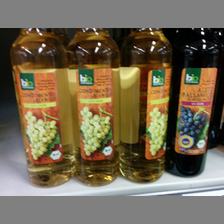vinegar: (11, 27, 76, 188), (67, 26, 121, 186), (167, 30, 224, 178), (122, 28, 172, 181)
